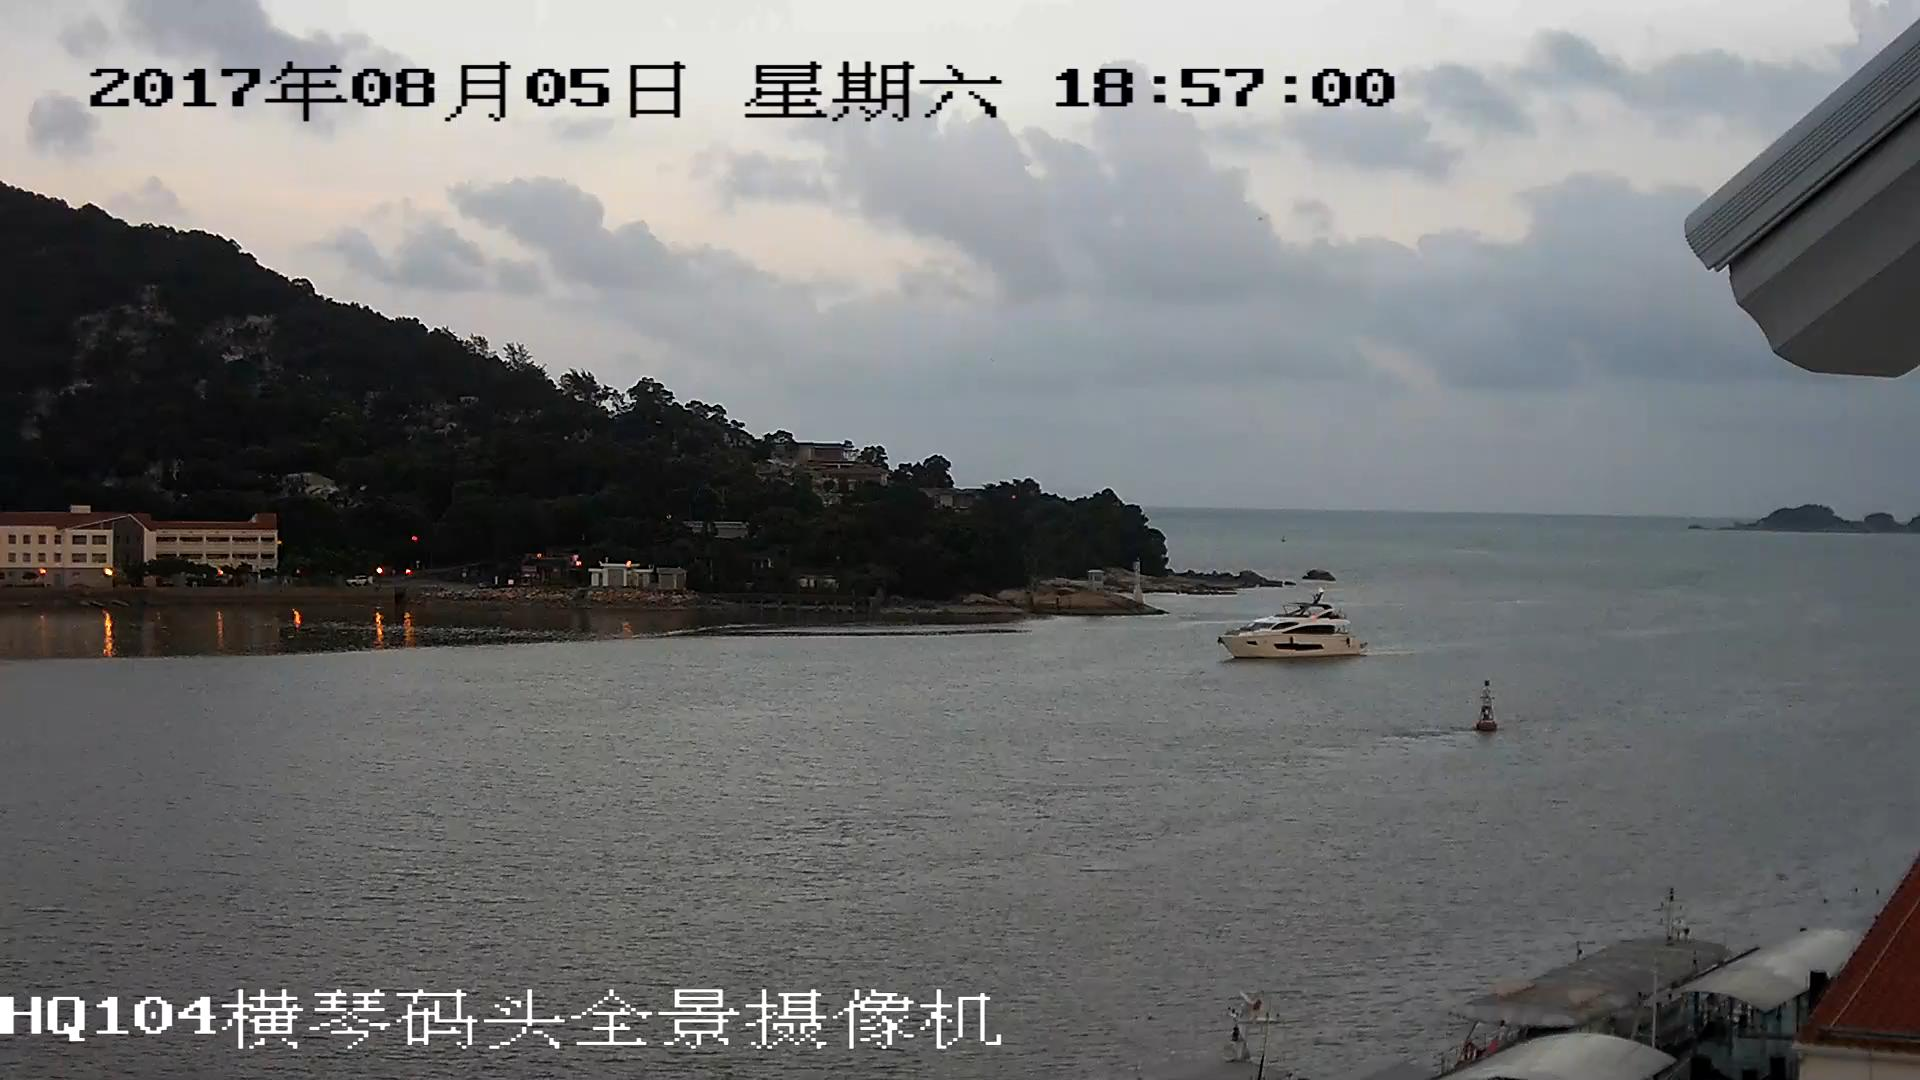passenger ship: (1220, 599, 1364, 661)
